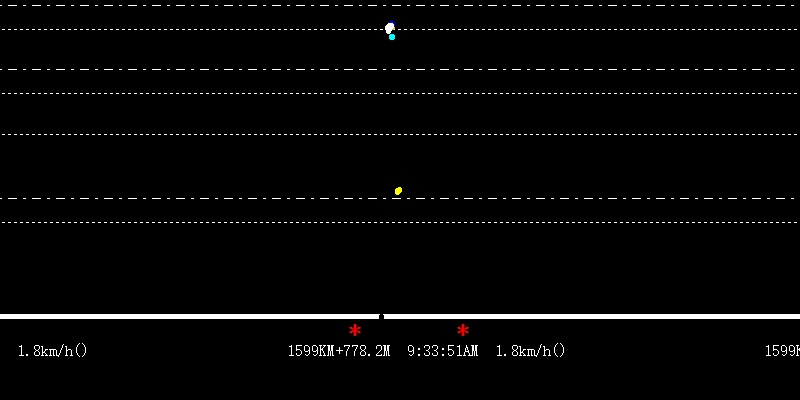face_s: (383, 21, 394, 34)
star: (344, 321, 362, 338), (454, 320, 469, 338)
